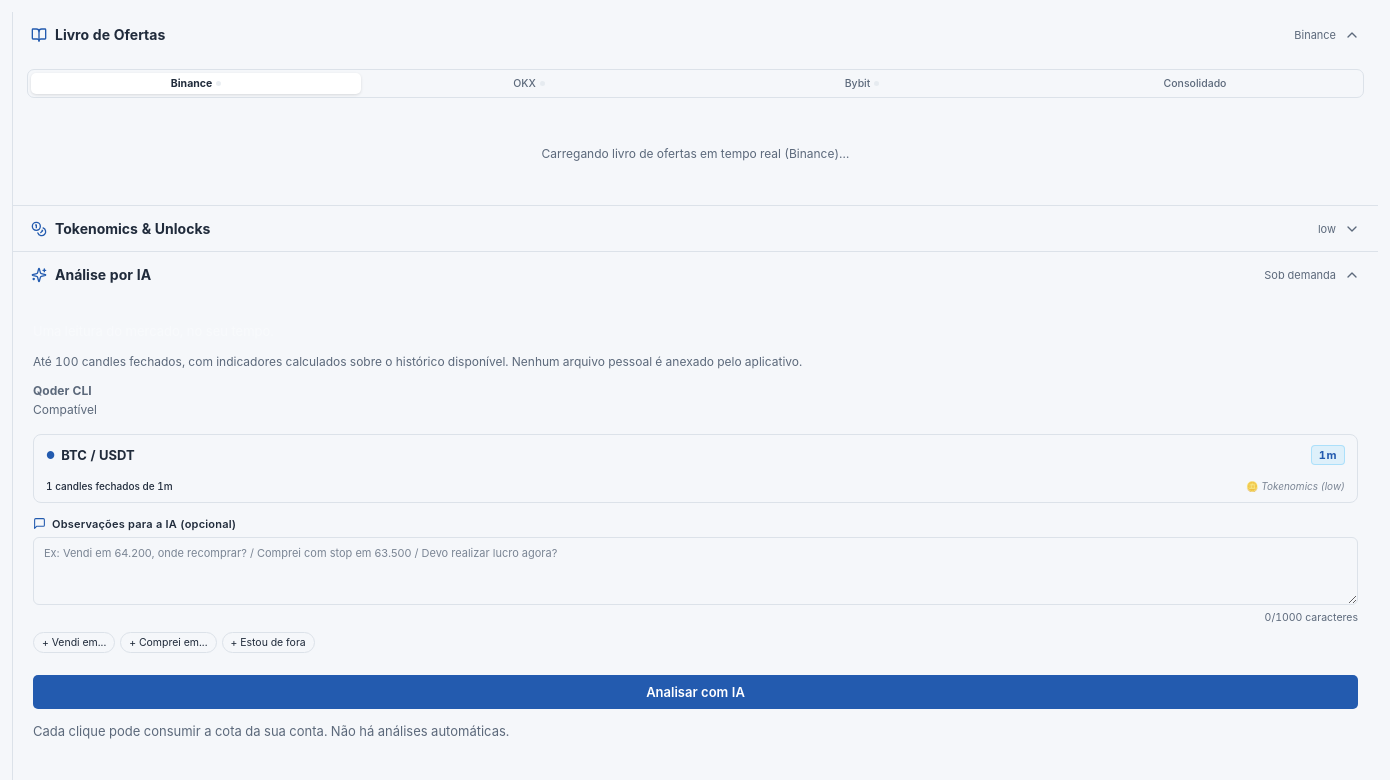
não repete erros da CLI automaticamente e recupera o botão
This screenshot has width=1390, height=780.
Click the button "Analisar com IA" at (696, 692), box [33,675,1358,709]
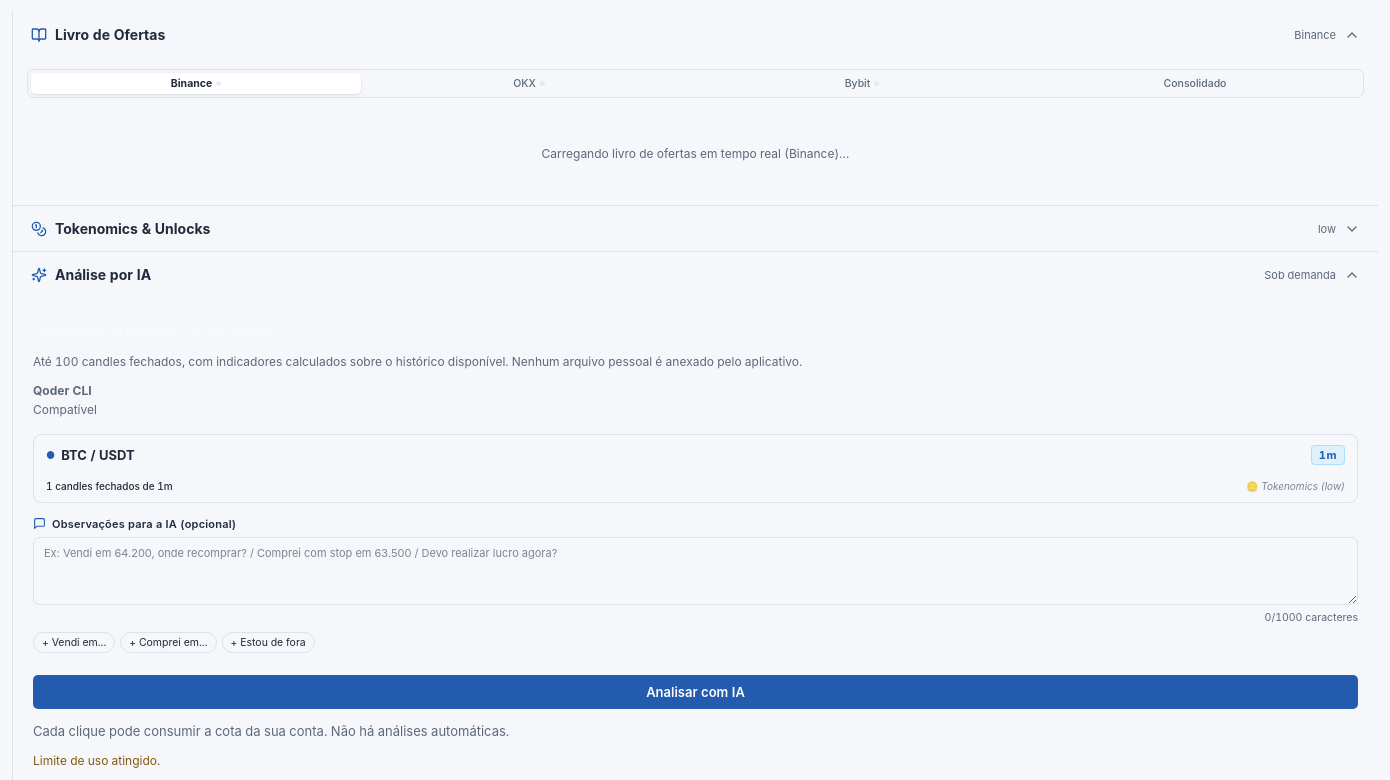
Result: the message reads "Limite de uso atingido." at [33,753,160,768]
